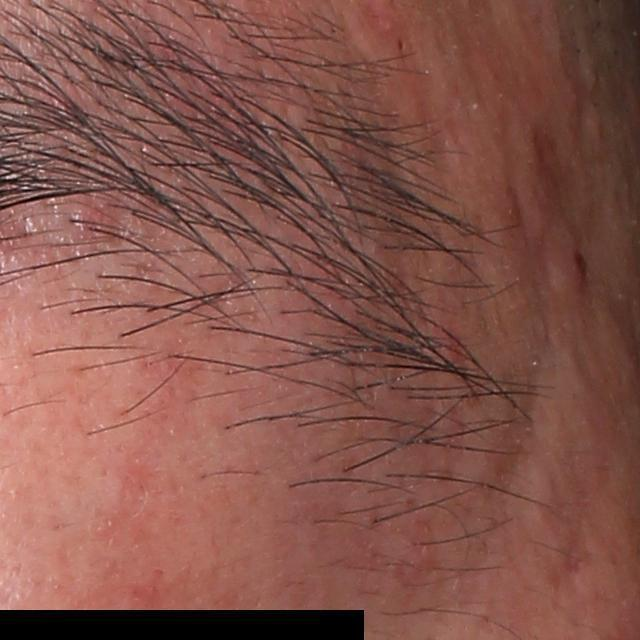papule: (545, 221, 595, 299)
